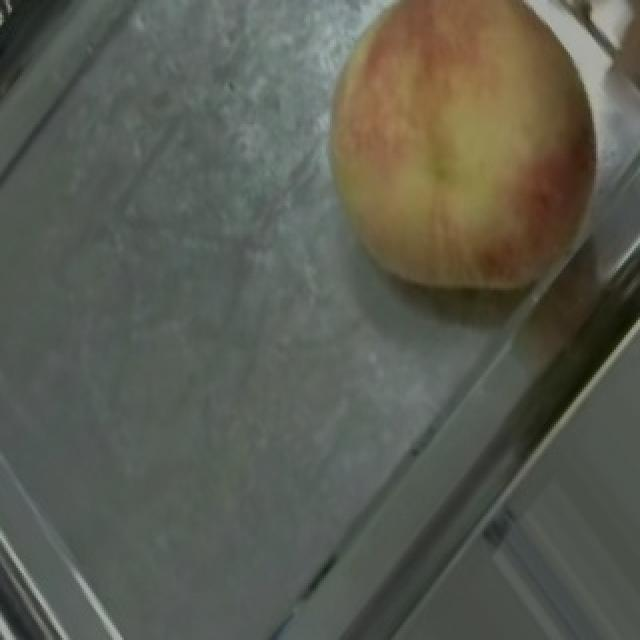Fruit: (282, 0, 596, 332)
